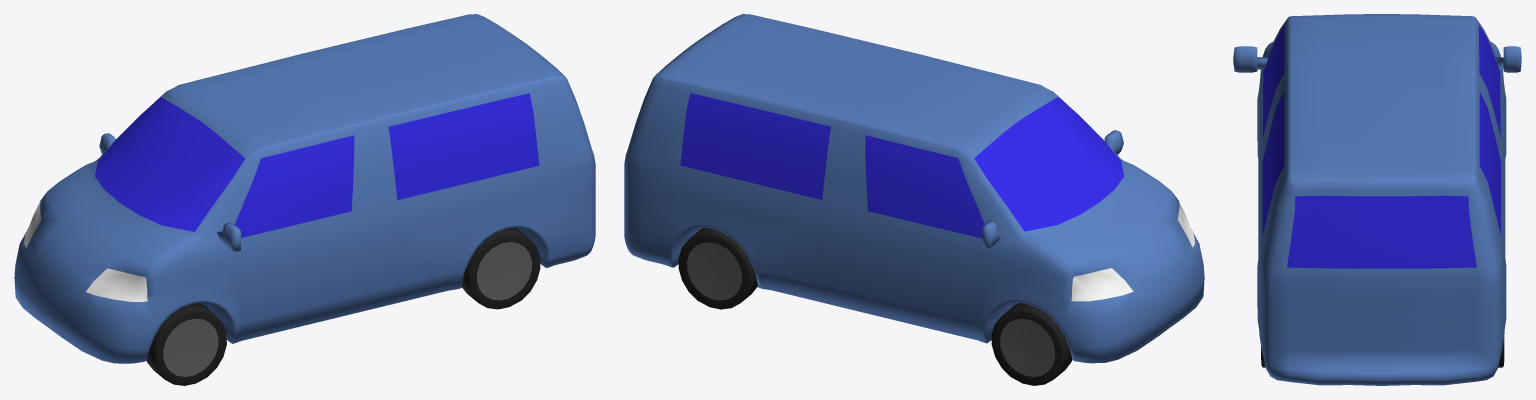
Rendered from bus.glb.
3 views of the same model, side by side, from view 1: azimuth 30°, elevation 25°; view 2: azimuth 150°, elevation 25°; view 3: azimuth 270°, elevation 25° (orthographic). The views are drawn at different scales.
Parts seen in each view (by area): view 1: bus; view 2: bus; view 3: bus.
Part boxes in pixels (x1,y1,x2,y2): bus: (14,14,595,385); bus: (624,14,1204,385); bus: (1233,14,1521,385).
Bounding box in the file's own units: 96.45 × 37.53 × 43.44.
